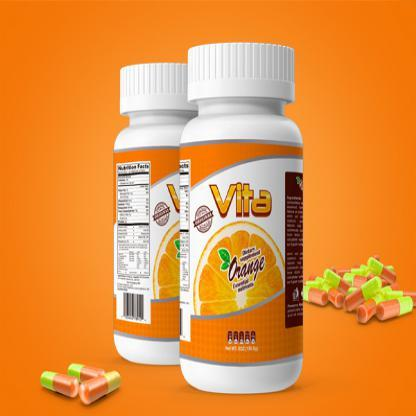jar: (180, 44, 302, 393), (99, 60, 200, 365)
